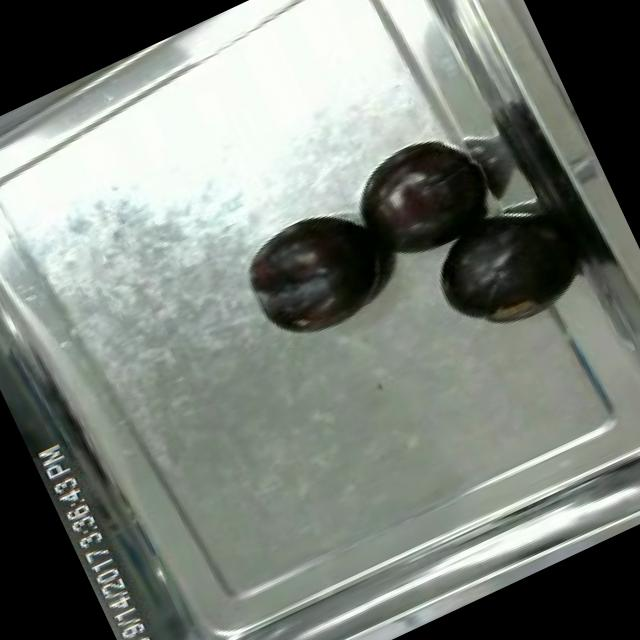Fruit: (226, 192, 406, 355), (414, 190, 588, 350), (338, 123, 510, 281)
